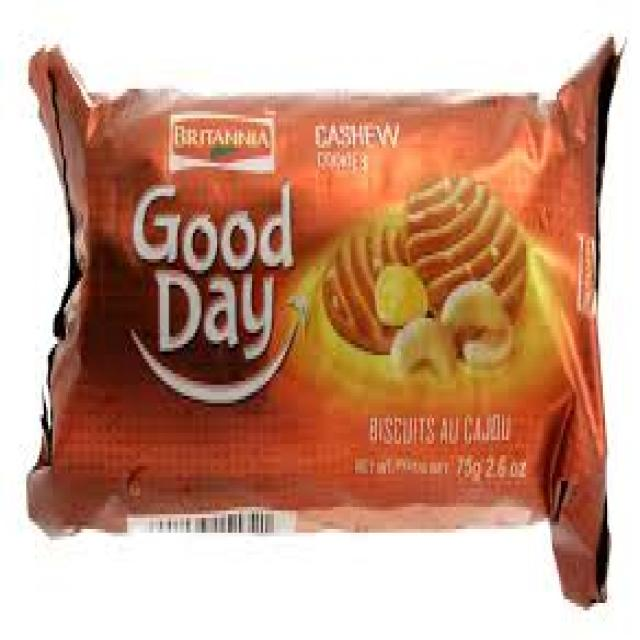good_day: (24, 40, 623, 568)
